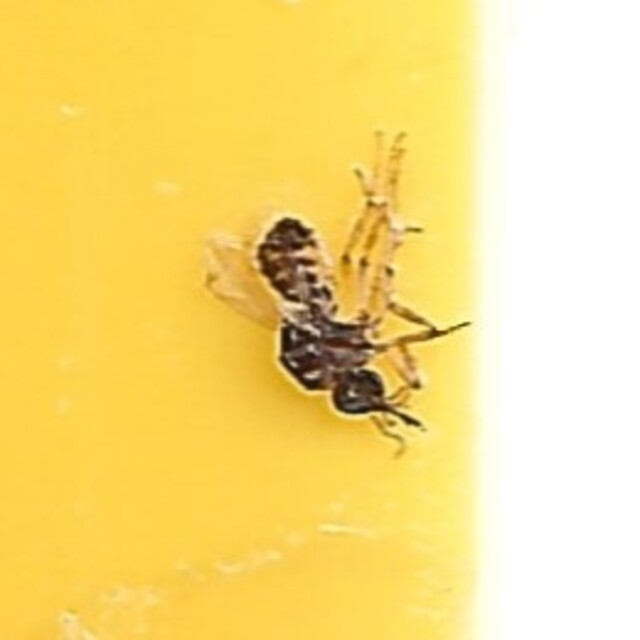Brachycera: (246, 213, 394, 427)
